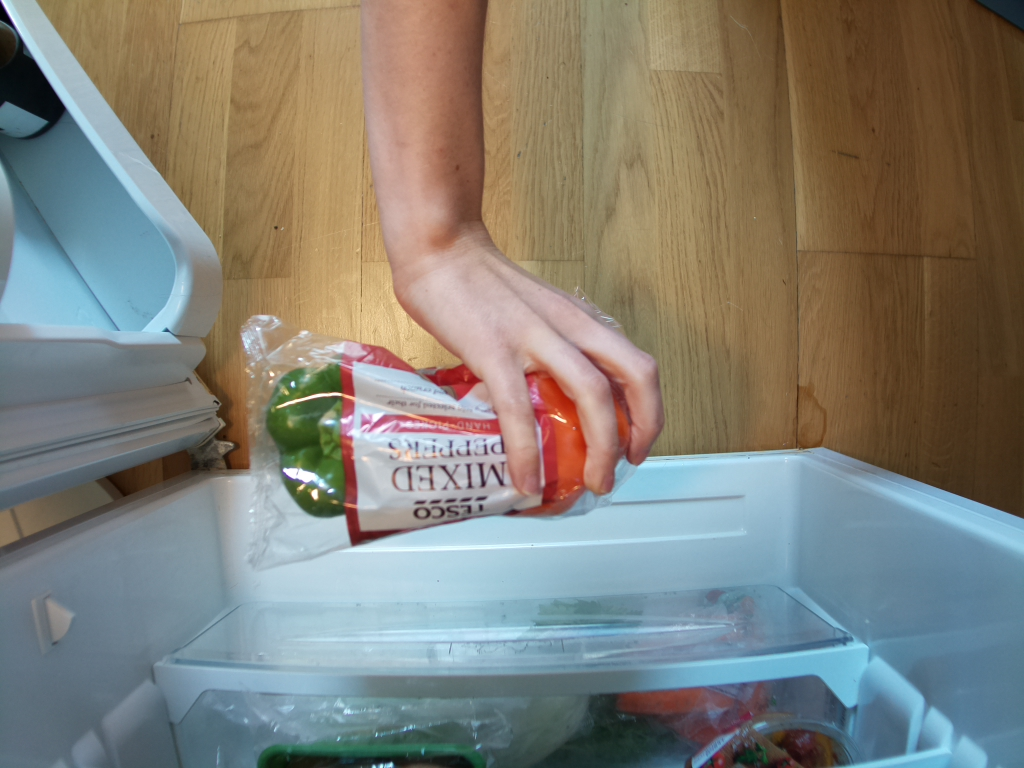pepper: (505, 369, 636, 517), (265, 356, 352, 521)
